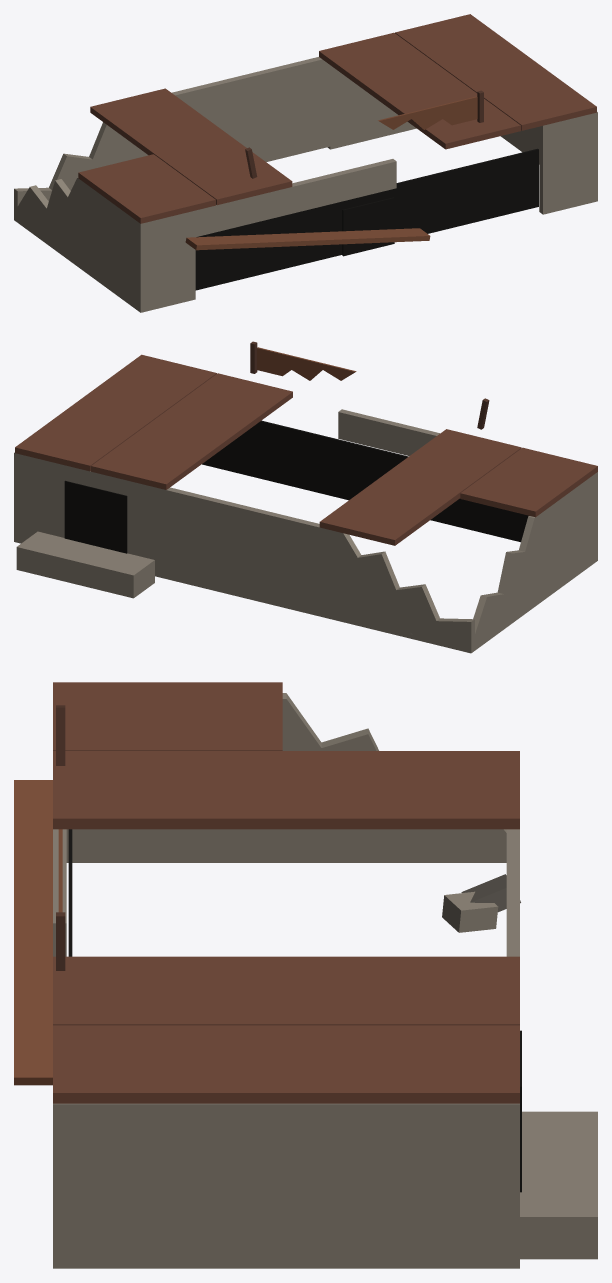
3 renders of one model, top to bottom at view 1: azimuth 30°, elevation 25°; view 2: azimuth 150°, elevation 25°; view 3: azimuth 270°, elevation 25°, orthographic. The views are drawn at different scales.
Parts seen in each view (by area): view 1: site_supermarket_ruin; view 2: site_supermarket_ruin; view 3: site_supermarket_ruin.
Part boxes in pixels (x1,y1,x2,y2): site_supermarket_ruin: (14,14,597,312); site_supermarket_ruin: (14,341,597,653); site_supermarket_ruin: (14,682,597,1268).
Bounding box in the file's own units: 25 × 7.45 × 15.
